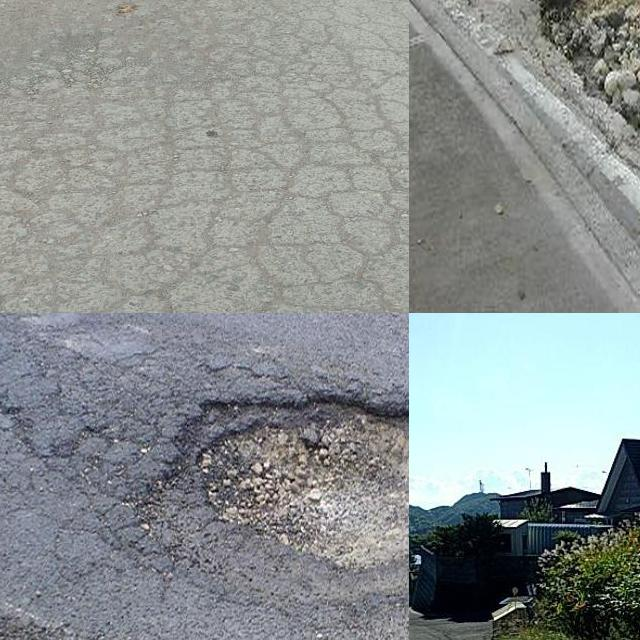Lubang: (167, 392, 409, 571), (545, 0, 640, 135)
Retak Buaya: (0, 57, 409, 313)
